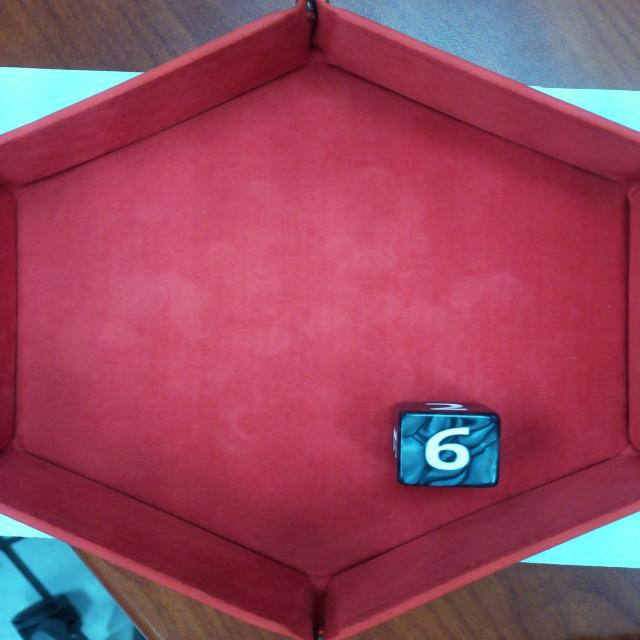dice: (399, 411, 497, 485)
